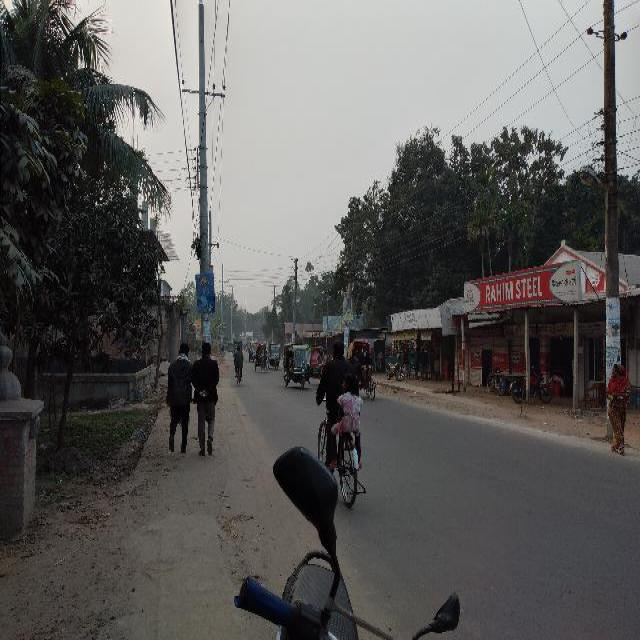10: (506, 366, 556, 406), (384, 352, 406, 380), (243, 342, 247, 351)
13: (347, 336, 378, 403), (310, 339, 326, 381), (255, 342, 268, 374)
Car: (282, 342, 312, 389), (266, 340, 280, 369), (248, 341, 258, 363), (232, 340, 242, 360), (227, 340, 233, 353)
Motorcycle: (313, 341, 371, 510)
